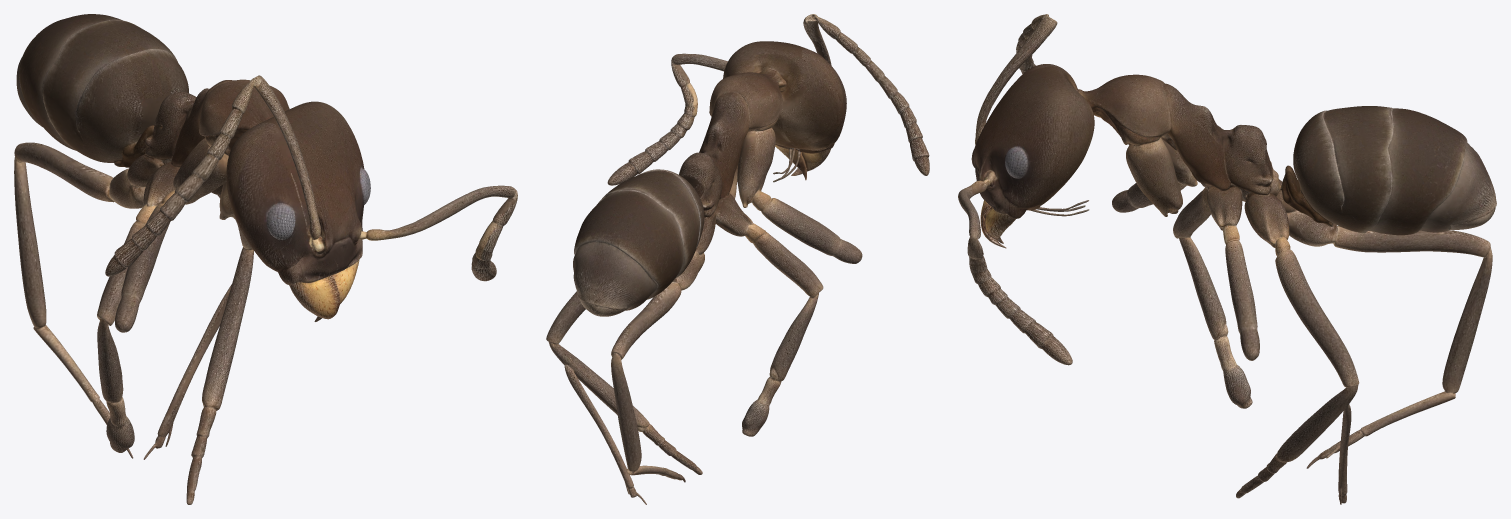
The model's file is esp9.glb.
3 renders of one model, left to right at view 1: azimuth 30°, elevation 25°; view 2: azimuth 150°, elevation 25°; view 3: azimuth 270°, elevation 25°, orthographic. The views are drawn at different scales.
Size of the model in its own units: 1.46 by 1.81 by 1.9.
Materials: 1 (1 with a texture image).
